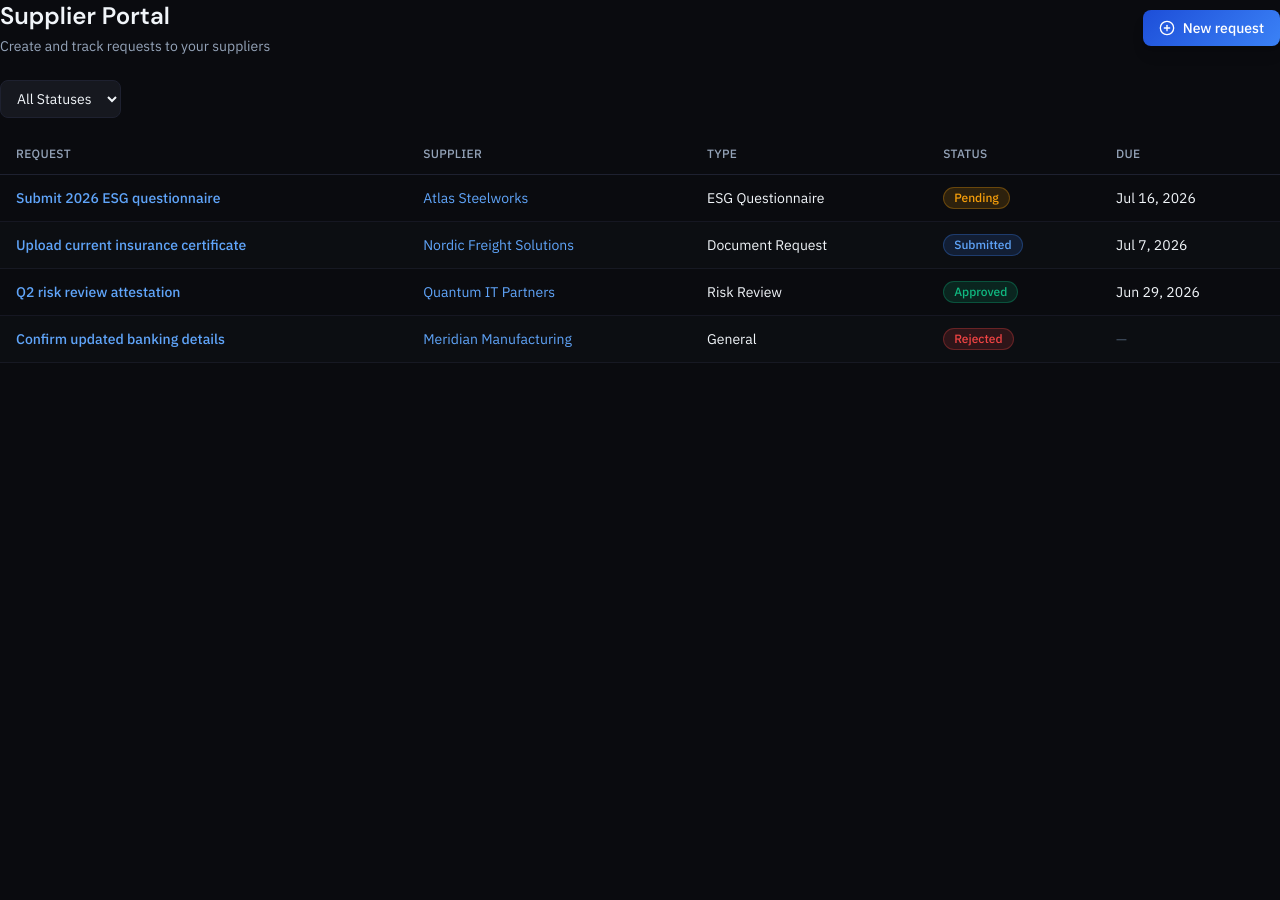
Test case: Portal page › opens the slide-over when a request row is clicked
Click the button "Submit 2026 ESG questionnaire": (118, 198) x1=16 y1=188 x2=220 y2=208
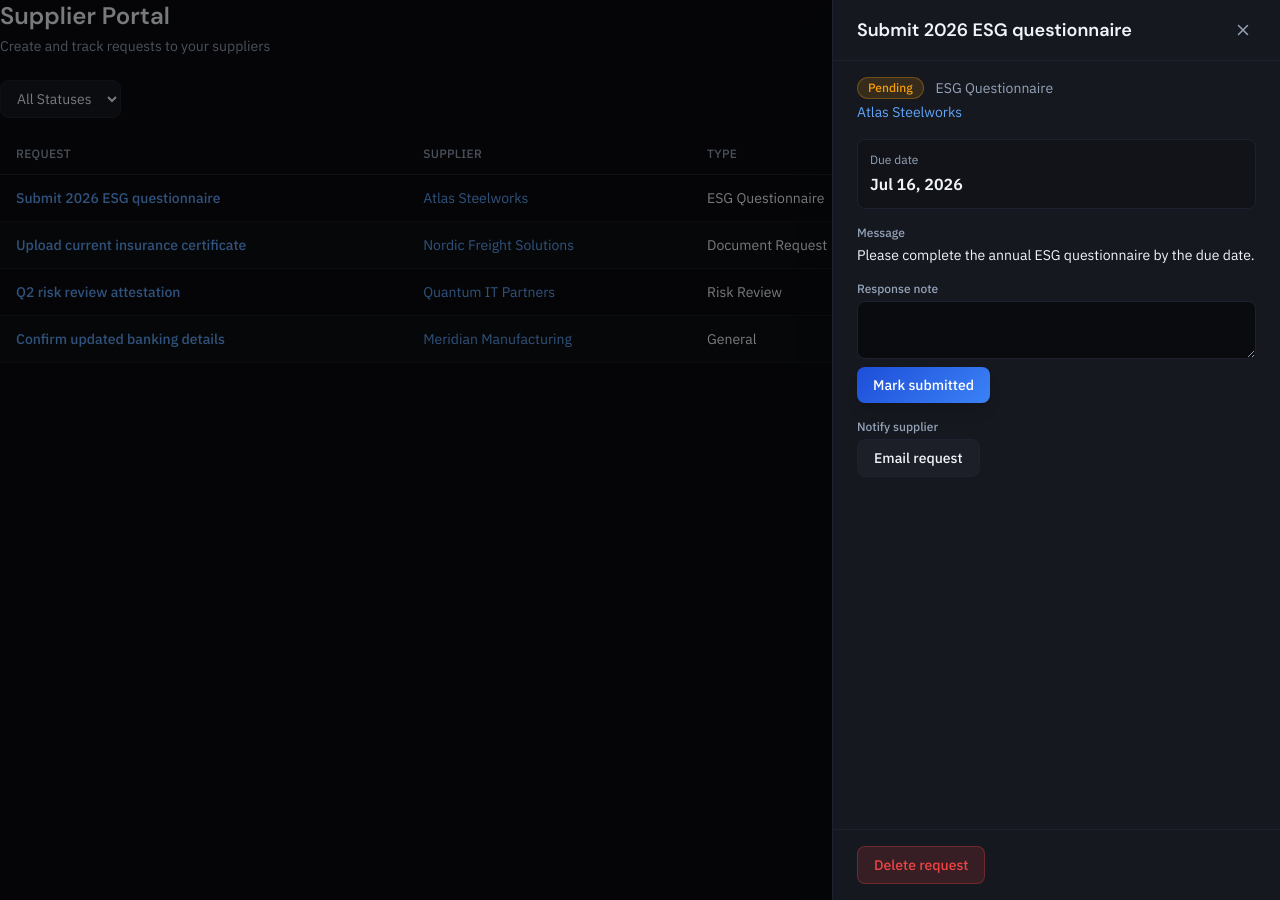
Now the button "Mark submitted" is shown, box x1=857 y1=367 x2=990 y2=403
